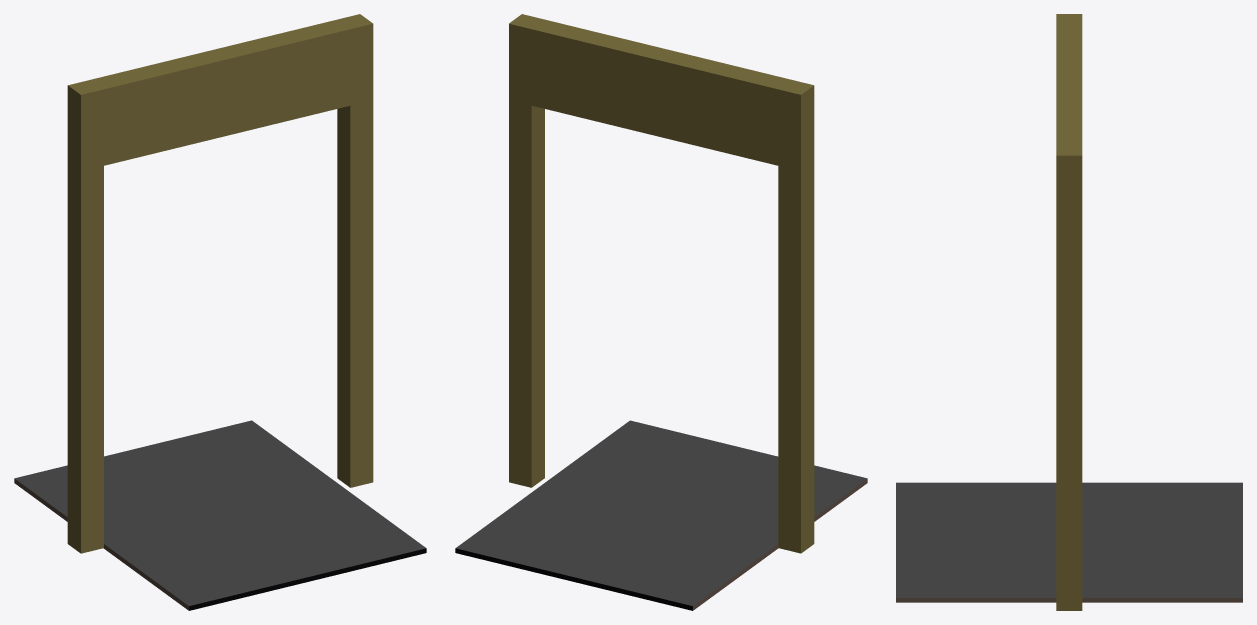
The model's file is suspension_center.glb.
3 renders of one model, left to right at view 1: azimuth 30°, elevation 25°; view 2: azimuth 150°, elevation 25°; view 3: azimuth 270°, elevation 25°, orthographic.
Parts seen in each view (by area): view 1: Maxis-3d2-mesh-62-BR83; view 2: Maxis-3d2-mesh-62-BR83; view 3: Maxis-3d2-mesh-62-BR83.
Boxes of the visible parts, left/top/right/bottom form: Maxis-3d2-mesh-62-BR83: left=14, top=14, right=426, bottom=610; Maxis-3d2-mesh-62-BR83: left=455, top=14, right=867, bottom=610; Maxis-3d2-mesh-62-BR83: left=896, top=14, right=1242, bottom=610.
Bounding box in the file's own units: 16 × 24.25 × 16.56.
